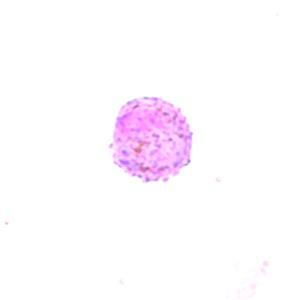Infected: (109, 96, 194, 183)
